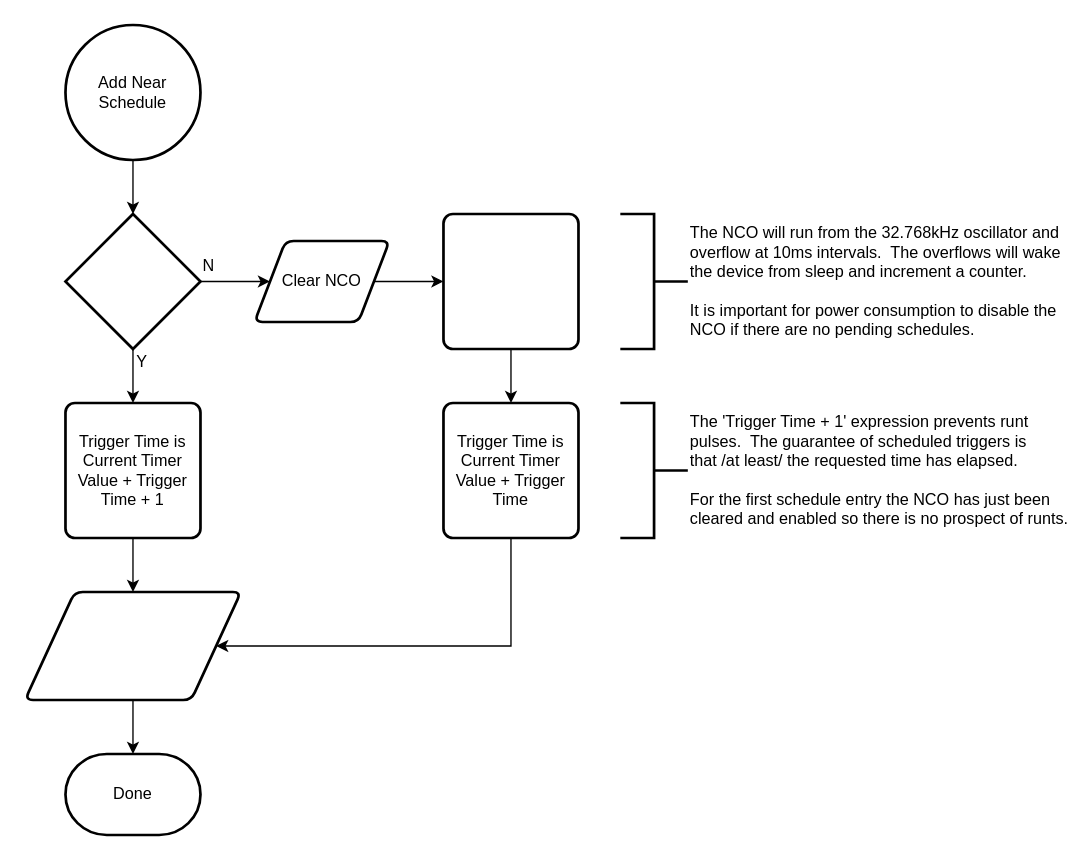
The diagram is 1091 pixels wide and 859 high, and some of its shapes have lost their labels. The shapes that lost their labels are listed below. From the top down, each one's centre as x and y in pixels, then its label:
At point (132, 281): "NCO Enabled ?".
At point (510, 281): "Enable NCO".
At point (132, 645): "Add Trigger Time and Handler to Near Schedules List".
